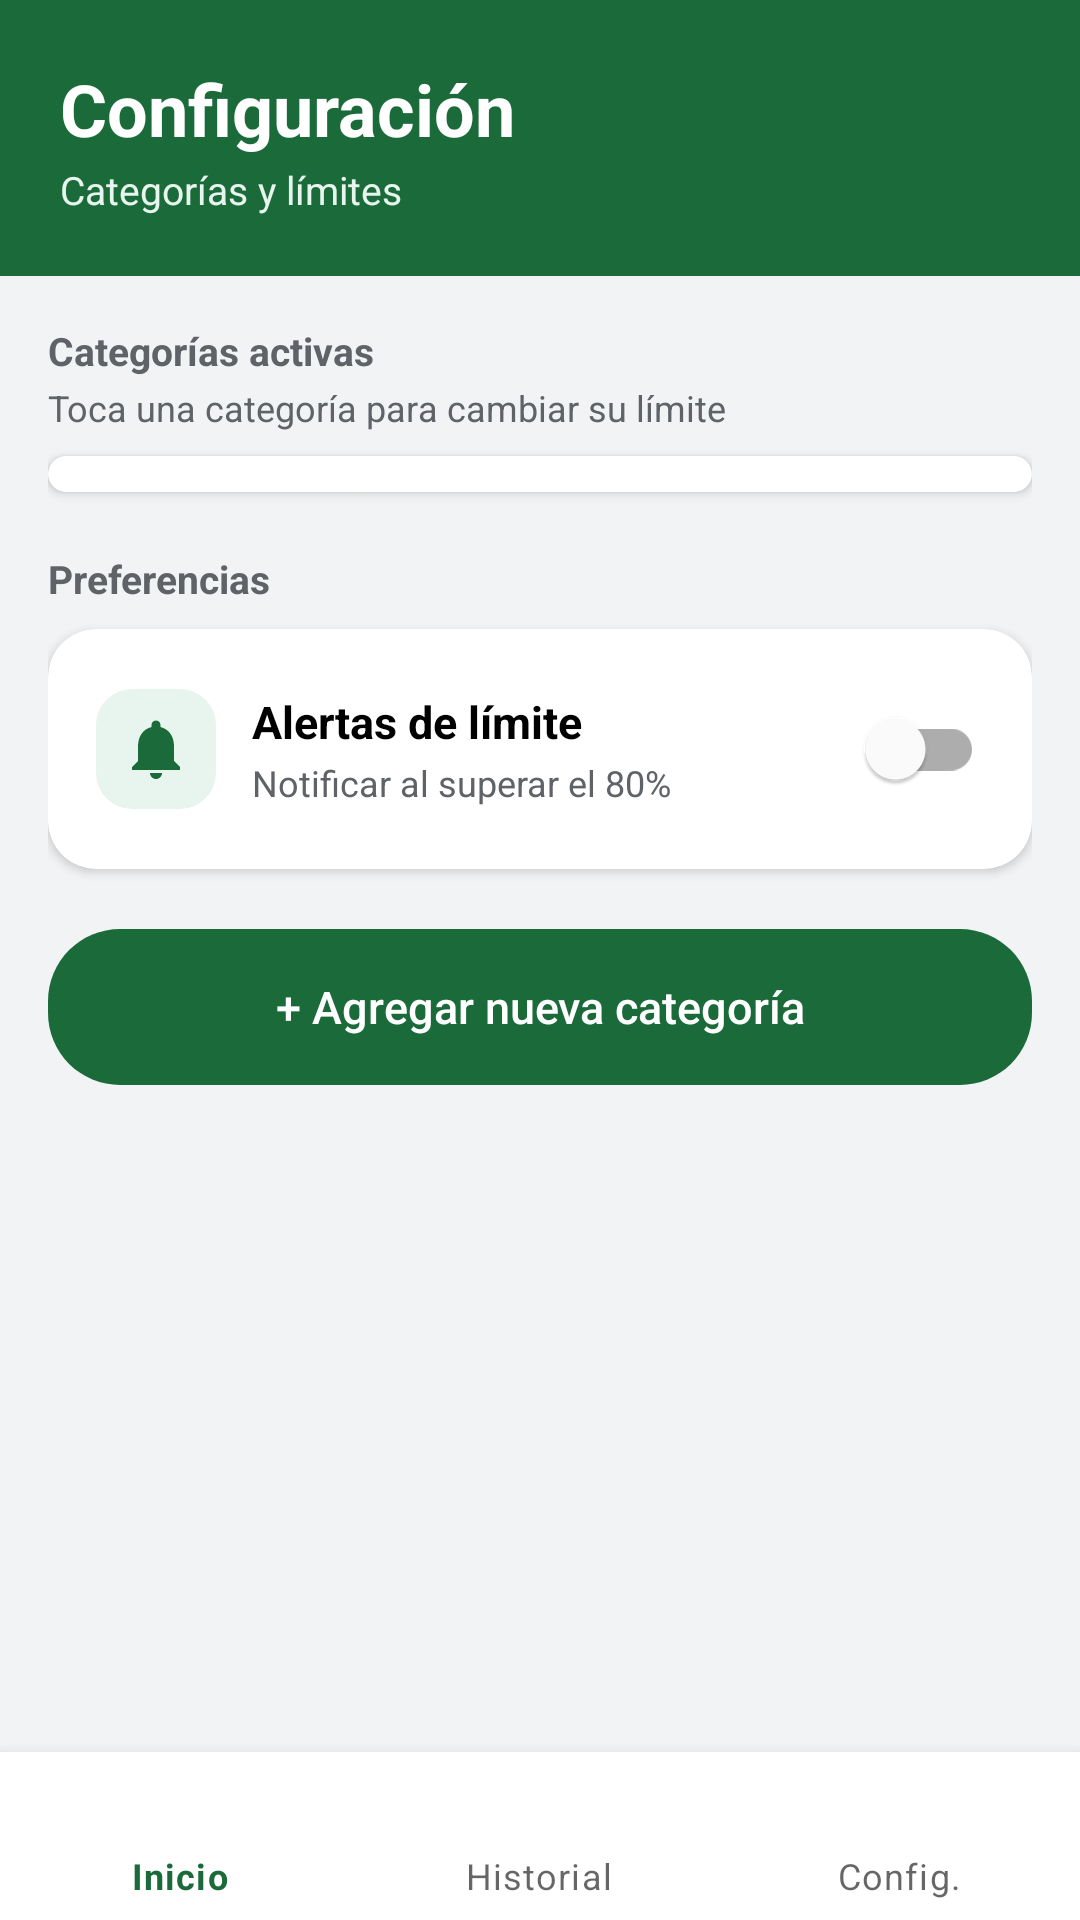

Where to tap for icons on this 1080px x 1920px app screen, as (x,y):
campana: (156,749)
